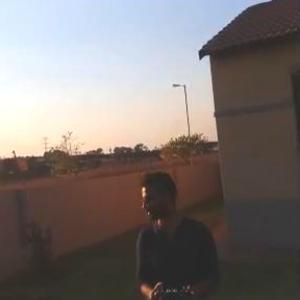follow: (123, 160, 221, 299)
